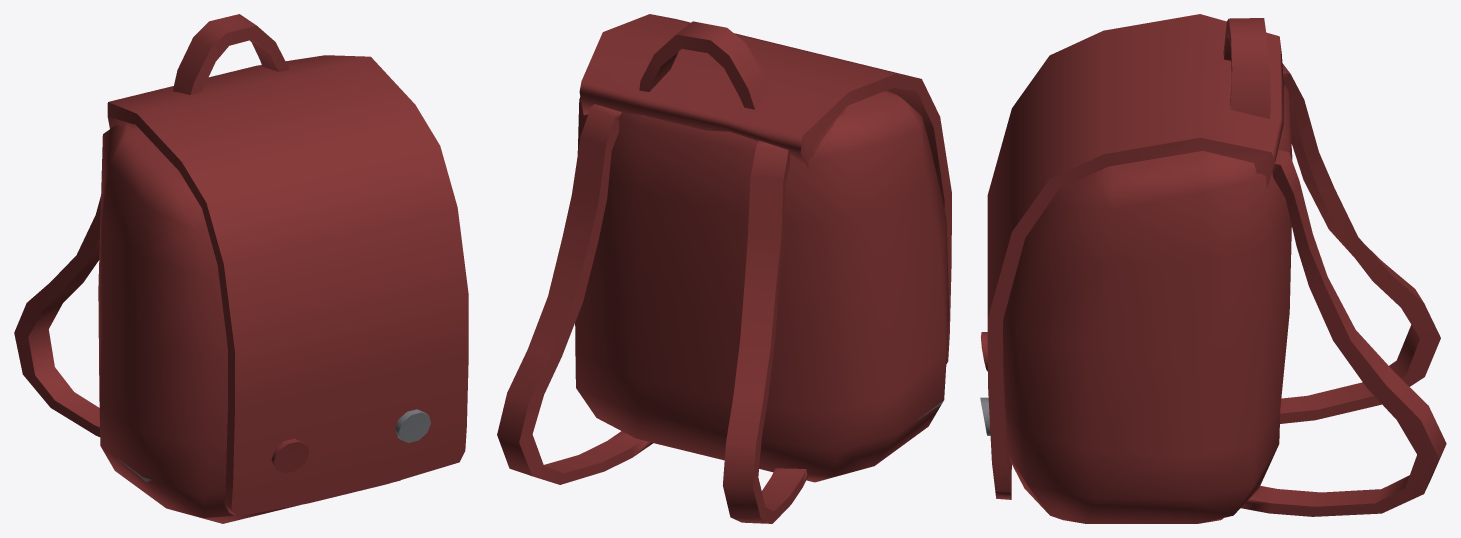
Rendered from M_backpack.fbx.
The picture shows the model from 3 angles, left to right: view 1: azimuth 30°, elevation 25°; view 2: azimuth 150°, elevation 25°; view 3: azimuth 270°, elevation 25°; orthographic projection. The views are drawn at different scales.
Parts seen in each view (by area): view 1: M_backpack; view 2: M_backpack; view 3: M_backpack.
Boxes of the visible parts, x1,y1,x2,y2 form: M_backpack: [14, 14, 468, 523]; M_backpack: [497, 14, 951, 523]; M_backpack: [980, 14, 1446, 523].
Size of the model in its own units: 40.32 by 52.17 by 48.97.
1 material, 1 textured.
